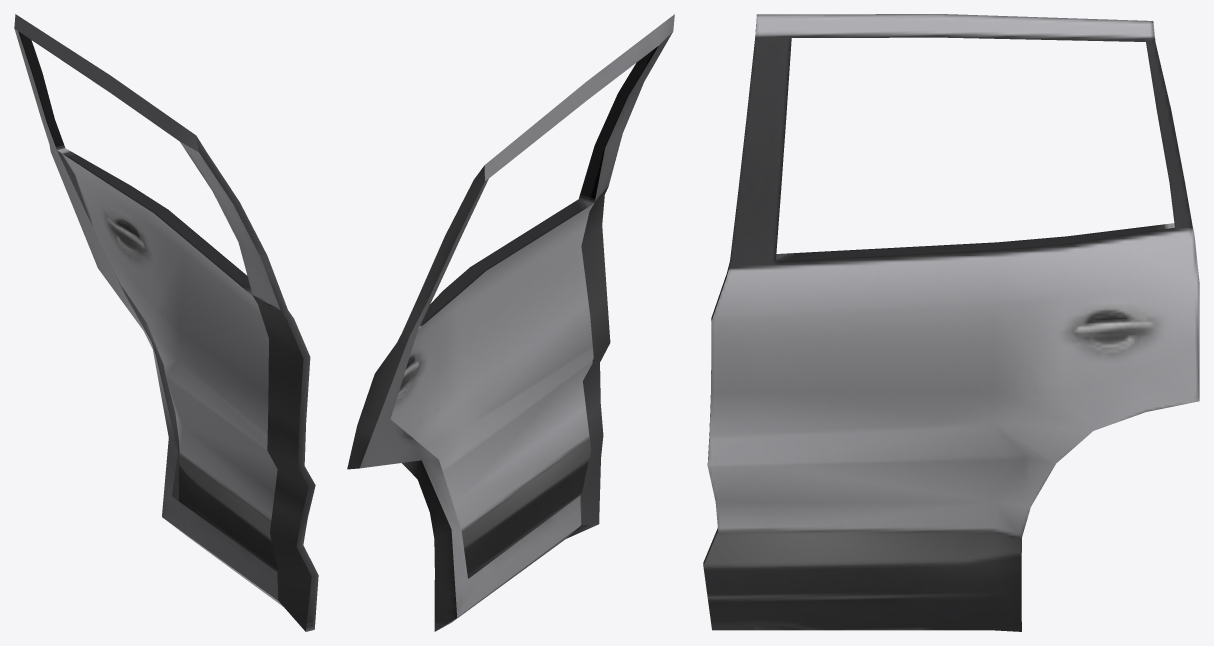
The model's file is 右后门001.FBX.
The picture shows the model from 3 angles, left to right: view 1: azimuth 30°, elevation 25°; view 2: azimuth 150°, elevation 25°; view 3: azimuth 270°, elevation 25°; orthographic projection. The views are drawn at different scales.
Parts seen in each view (by area): view 1: 右后门001; view 2: 右后门001; view 3: 右后门001.
Boxes of the visible parts, bbox=[...] form: 右后门001: bbox=[14, 14, 318, 631]; 右后门001: bbox=[347, 14, 674, 631]; 右后门001: bbox=[703, 14, 1199, 631].
Size of the model in its own units: 128 by 583 by 466.
